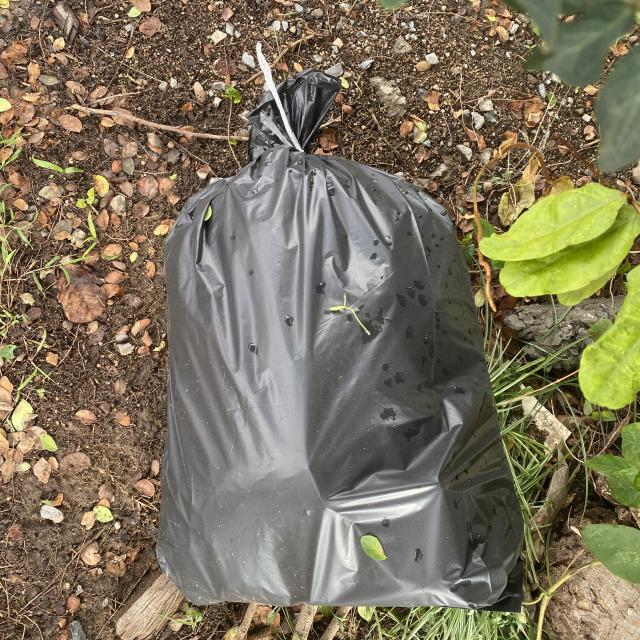Single-layer Plastic: (158, 45, 522, 611)
